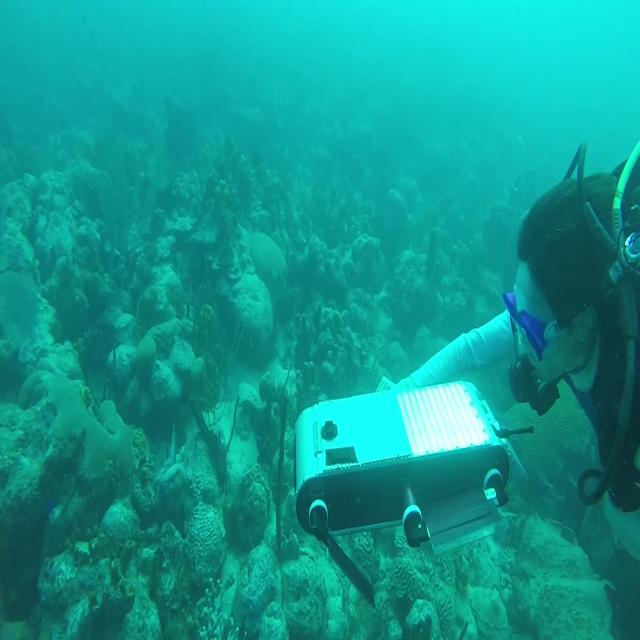human: (374, 139, 639, 538)
